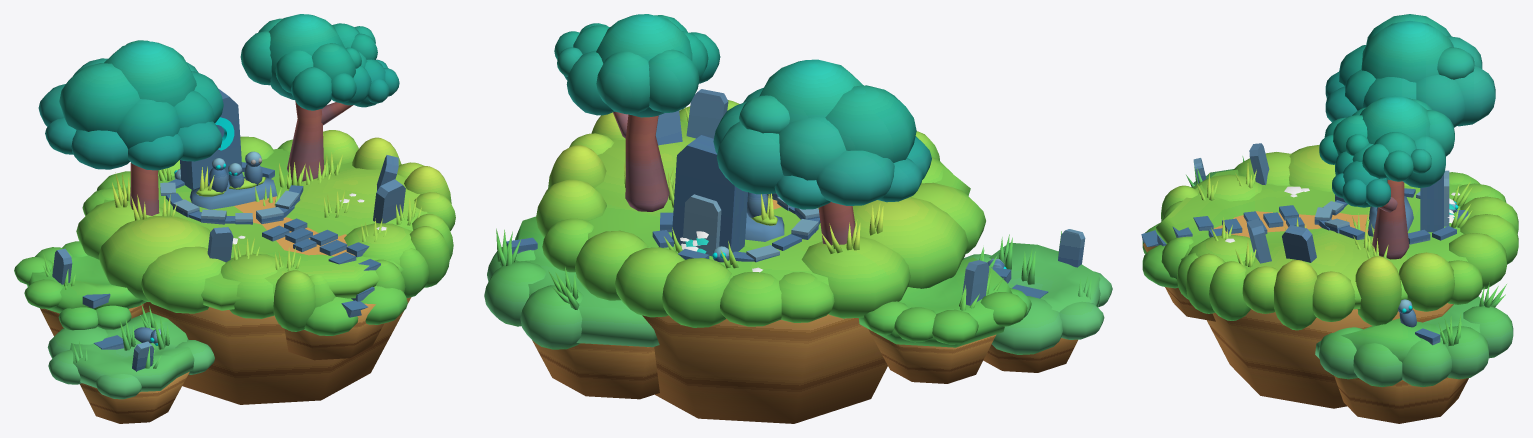
File: TinyEnvironment.fbx
The picture shows the model from 3 angles, left to right: view 1: azimuth 30°, elevation 25°; view 2: azimuth 150°, elevation 25°; view 3: azimuth 270°, elevation 25°; orthographic projection. The views are drawn at different scales.
Parts seen in each view (by area): view 1: pPyramid31, pSphere98, pSphere97, pCylinder12, pSphere99, pCylinder11; view 2: pPyramid31, pSphere97, pSphere98, pCylinder12, pSphere99, pCylinder11; view 3: pPyramid31, pSphere97, pSphere98, pCylinder12, pCylinder11, pSphere99.
Part boxes in pixels (x1=…): pPyramid31: x1=14, y1=152, x2=421, y2=423; pSphere98: x1=38, y1=14, x2=399, y2=170; pSphere97: x1=76, y1=130, x2=455, y2=335; pCylinder12: x1=103, y1=148, x2=428, y2=404; pSphere99: x1=180, y1=88, x2=277, y2=209; pCylinder11: x1=130, y1=101, x2=353, y2=215; pPyramid31: x1=484, y1=89, x2=1112, y2=399; pSphere97: x1=536, y1=100, x2=985, y2=327; pSphere98: x1=554, y1=14, x2=931, y2=209; pCylinder12: x1=588, y1=121, x2=970, y2=423; pSphere99: x1=671, y1=135, x2=784, y2=252; pCylinder11: x1=613, y1=111, x2=856, y2=245; pPyramid31: x1=1141, y1=143, x2=1513, y2=423; pSphere97: x1=1142, y1=145, x2=1518, y2=330; pSphere98: x1=1319, y1=14, x2=1495, y2=207; pCylinder12: x1=1156, y1=169, x2=1471, y2=408; pCylinder11: x1=1371, y1=180, x2=1409, y2=259; pSphere99: x1=1368, y1=174, x2=1443, y2=236.
Size of the model in its own units: 29.5 by 20.06 by 22.86.
